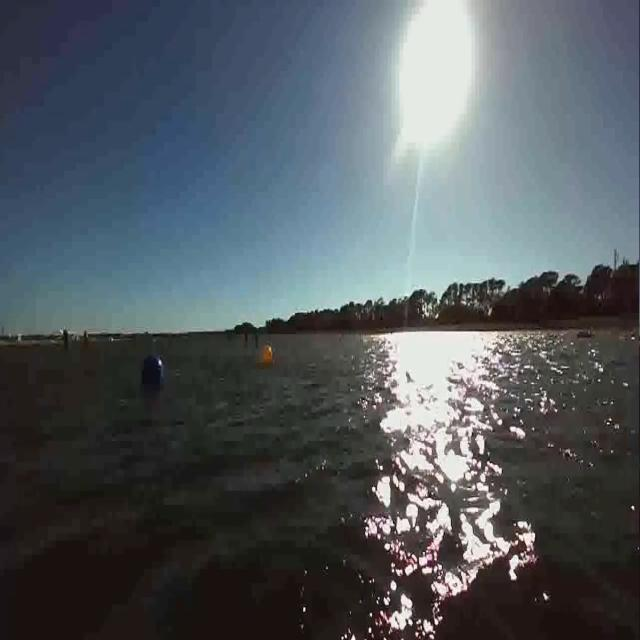blue-buoy: (141, 352, 164, 386)
